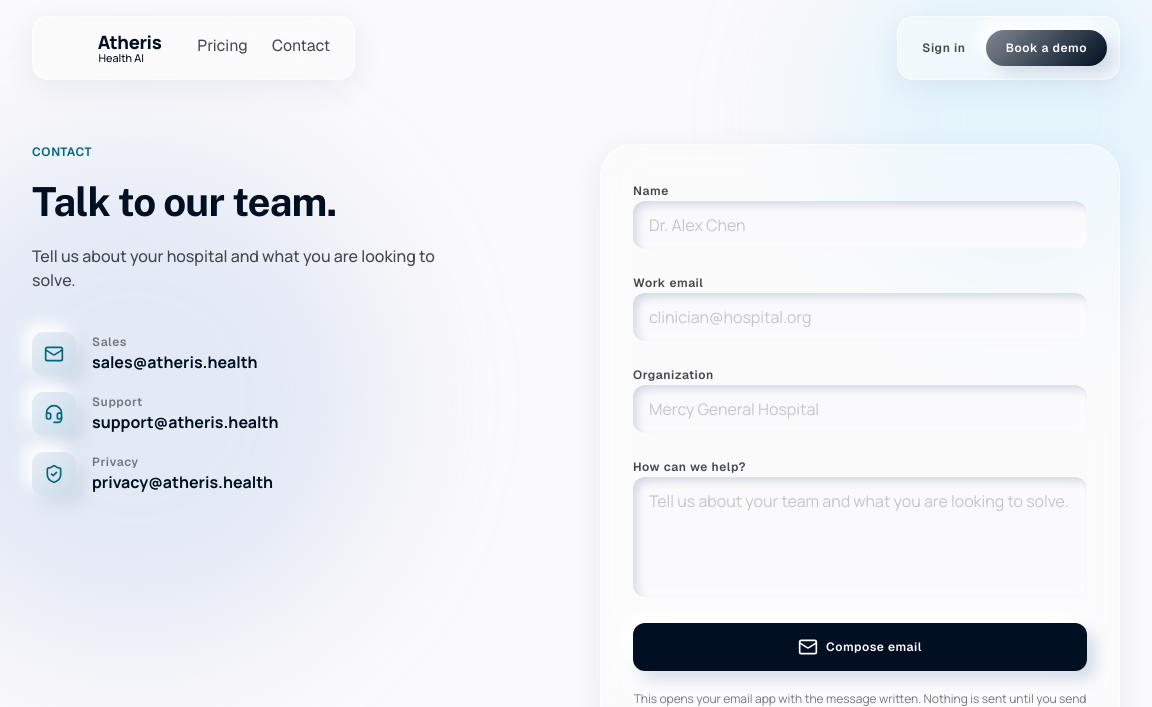
Test: contact page › does not open the email app for an incomplete form
This screenshot has width=1152, height=707.
Click the button "Compose email" at (860, 647), box 633,623 -> 1087,671
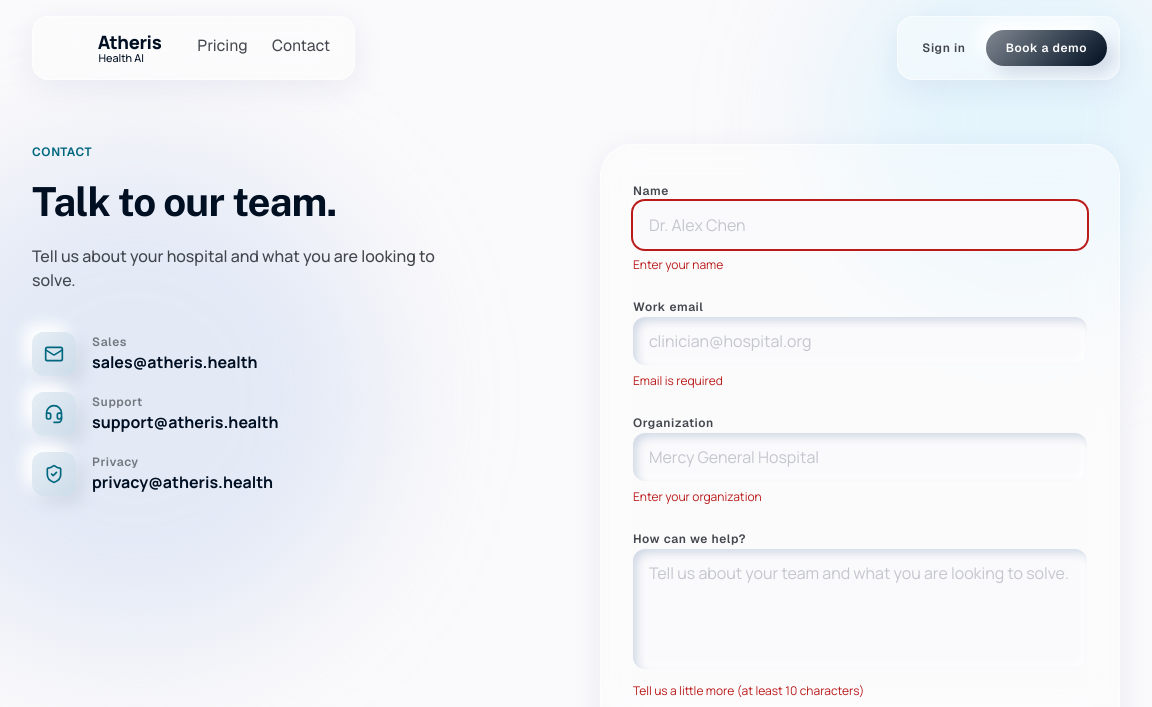
expect the text "Enter your name" is shown: met, box 633,256 -> 723,273
